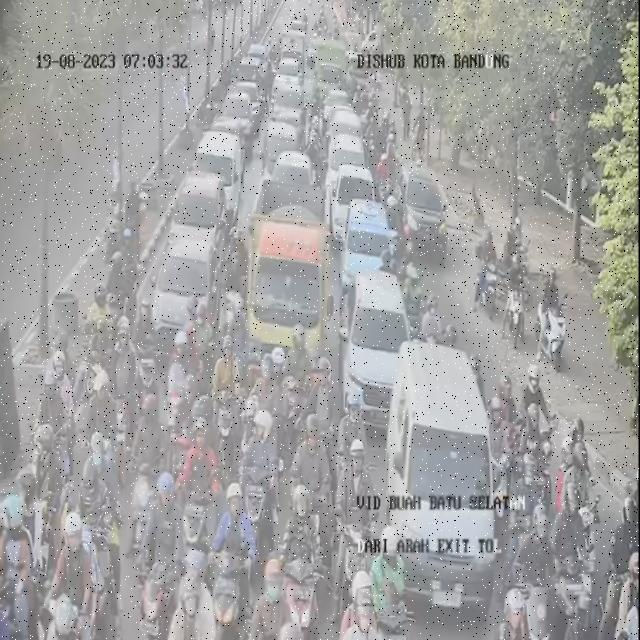bunch of motorcycle: (0, 129, 212, 635)
cars: (390, 332, 500, 609), (245, 214, 327, 384), (340, 265, 410, 429), (151, 227, 220, 358), (343, 198, 396, 308), (173, 169, 232, 265), (257, 151, 320, 233), (192, 127, 243, 227), (404, 160, 449, 258), (332, 162, 376, 240), (599, 568, 639, 639), (262, 118, 300, 182), (326, 135, 366, 192), (327, 111, 363, 165), (227, 87, 259, 147), (274, 81, 304, 144), (236, 56, 267, 115), (236, 83, 266, 118)
motorcycle: (73, 436, 125, 599), (279, 482, 324, 636), (140, 474, 182, 638), (25, 426, 68, 577), (128, 388, 167, 548), (556, 485, 596, 639), (208, 486, 248, 640), (509, 512, 555, 637), (103, 318, 138, 481), (504, 454, 548, 580), (55, 520, 99, 639), (178, 421, 216, 557), (0, 486, 33, 638), (36, 356, 74, 478), (101, 233, 139, 355), (562, 418, 596, 554), (606, 491, 638, 630), (83, 282, 116, 413), (243, 410, 276, 526), (166, 321, 200, 433), (339, 393, 372, 505), (210, 336, 239, 460), (83, 366, 117, 471), (292, 420, 329, 515), (521, 401, 552, 509), (252, 566, 297, 640), (484, 396, 512, 508), (256, 344, 288, 432), (491, 584, 539, 640), (519, 355, 549, 442), (397, 234, 424, 313), (221, 246, 244, 334), (494, 375, 520, 446), (420, 292, 444, 347), (376, 142, 393, 204)
truck: (311, 36, 348, 106)
